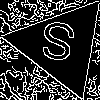S: (36, 20, 79, 71)
